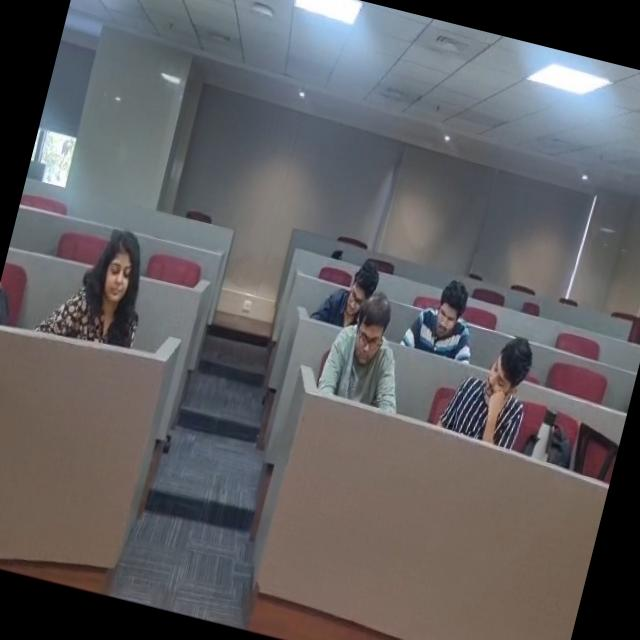non-cheating: (306, 287, 419, 413), (56, 227, 161, 356), (432, 327, 536, 449), (411, 254, 478, 350), (319, 232, 384, 322)
